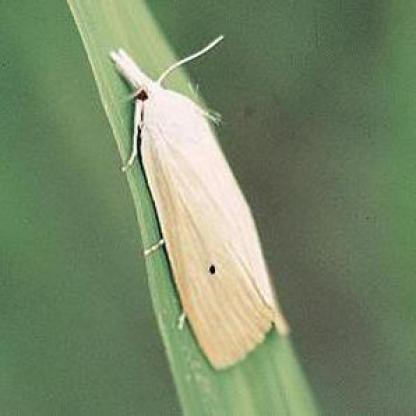stem-borer: (106, 34, 288, 370)
